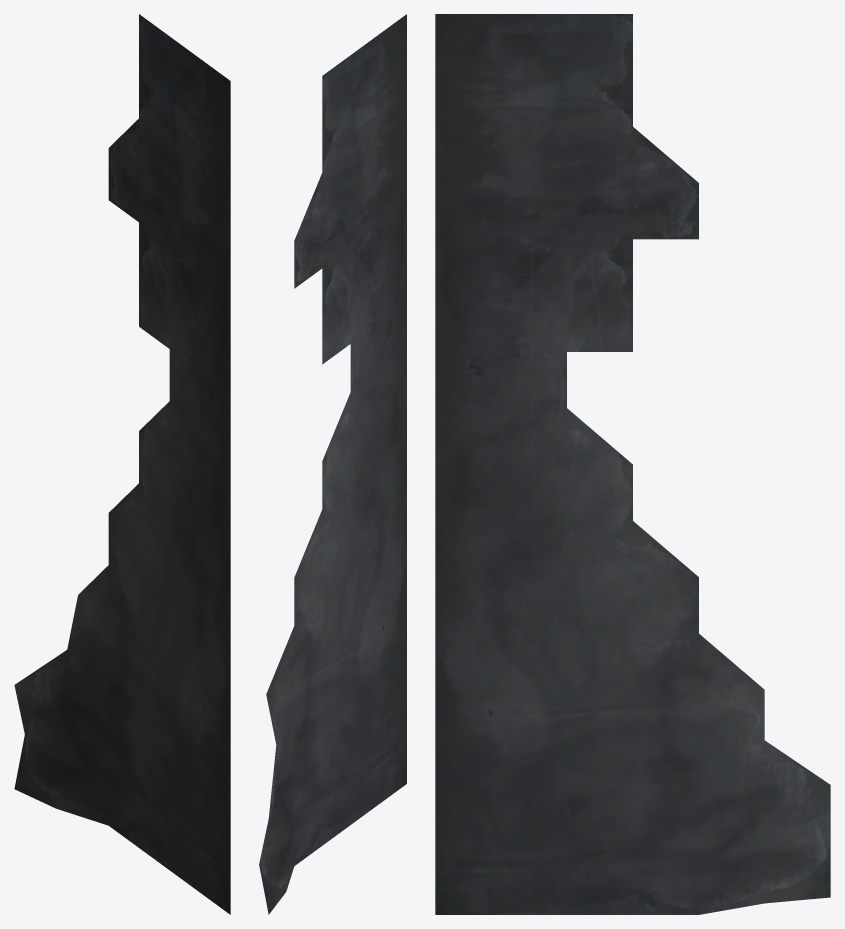
The model's file is hd_dec_UNI_015_Oilcloth_Damaged01_anim.glb.
3 renders of one model, left to right at view 1: azimuth 30°, elevation 25°; view 2: azimuth 150°, elevation 25°; view 3: azimuth 270°, elevation 25°, orthographic. The views are drawn at different scales.
Visible parts, largest first — view 1: set_0_group_0; view 2: set_0_group_0; view 3: set_0_group_0.
Boxes of the visible parts, bbox=[...] form: set_0_group_0: bbox=[14, 14, 230, 914]; set_0_group_0: bbox=[259, 14, 406, 914]; set_0_group_0: bbox=[435, 14, 830, 914].
Bounding box in the file's own units: 0.2679 × 6.43 × 2.56.
Materials: 1 (1 with a texture image).
